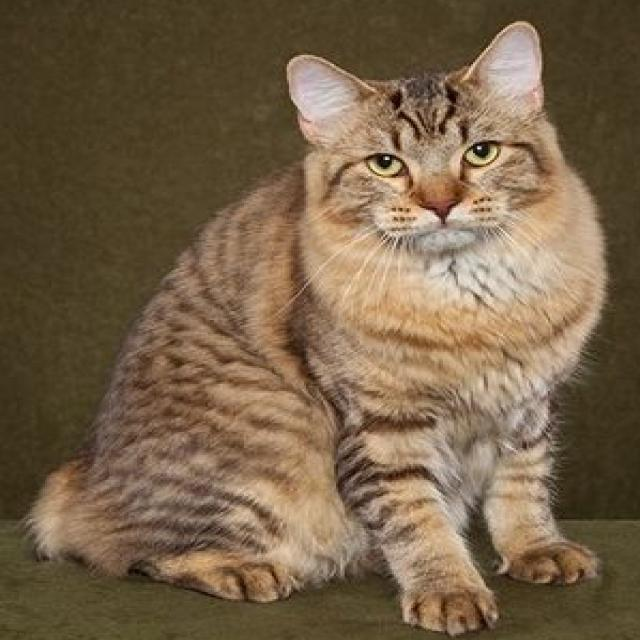American Bobtail: (19, 14, 616, 640)
